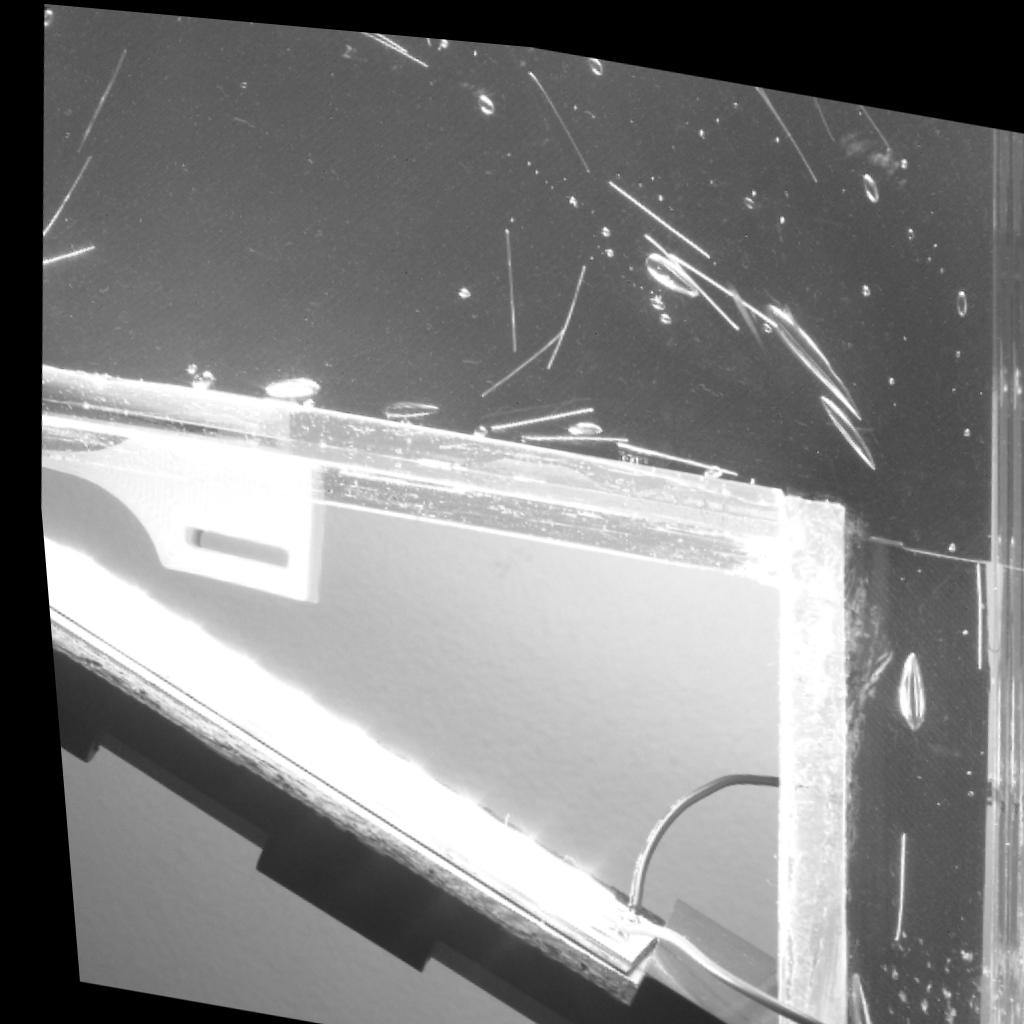Fiber: (637, 217, 736, 319), (601, 164, 712, 253), (661, 236, 775, 318), (467, 314, 566, 393), (67, 39, 132, 156), (523, 58, 592, 165), (749, 71, 819, 170), (535, 249, 589, 362), (605, 426, 730, 465), (38, 151, 90, 242), (478, 392, 590, 427), (343, 24, 430, 63), (873, 812, 894, 932), (853, 87, 893, 135), (37, 240, 95, 272), (497, 216, 511, 347), (807, 81, 834, 129), (513, 423, 625, 434), (962, 543, 972, 655), (366, 26, 408, 47), (885, 999, 900, 1024), (421, 29, 433, 41)
